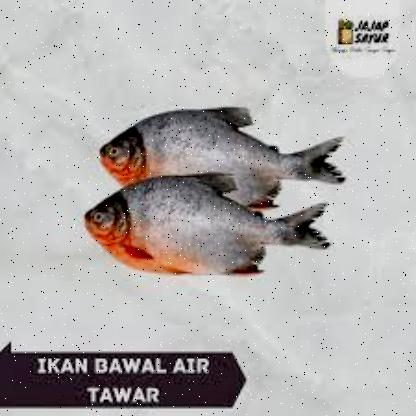ikan-pacu: (78, 171, 328, 280), (98, 103, 346, 212)
